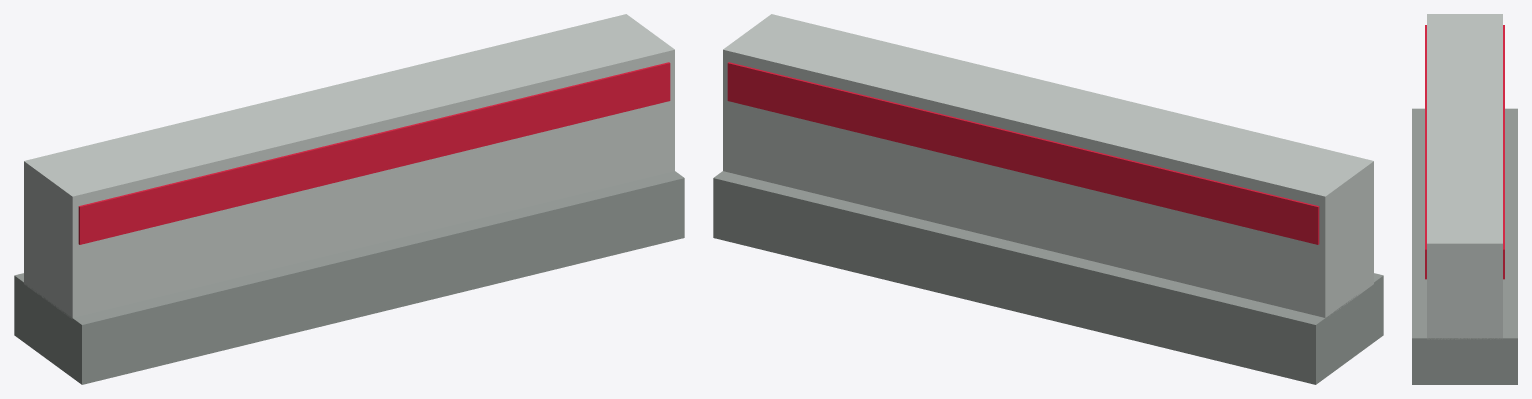
Rendered from barrier-concrete.glb.
3 views of the same model, side by side, from view 1: azimuth 30°, elevation 25°; view 2: azimuth 150°, elevation 25°; view 3: azimuth 270°, elevation 25° (orthographic). The views are drawn at different scales.
Parts seen in each view (by area): view 1: concrete-barrier-4m; view 2: concrete-barrier-4m; view 3: concrete-barrier-4m.
Part boxes in pixels (<box>): concrete-barrier-4m: <box>14,14,684,384</box>; concrete-barrier-4m: <box>713,14,1383,384</box>; concrete-barrier-4m: <box>1412,14,1517,384</box>.
Bounding box in the file's own units: 4 × 1.15 × 0.78.
